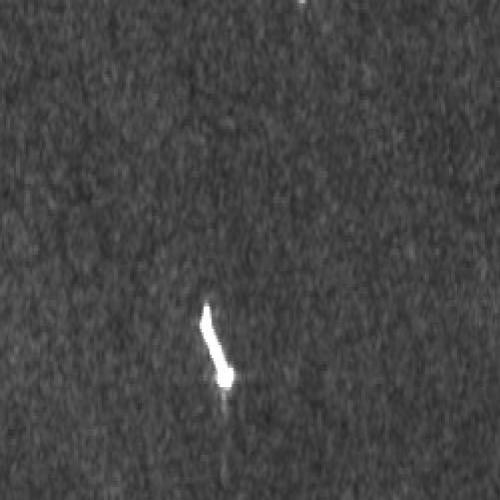ship: (197, 303, 235, 392)
